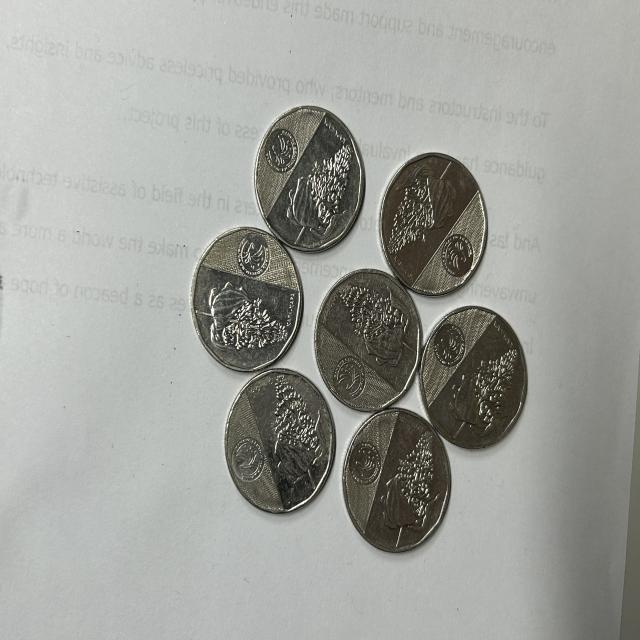10_New_Back: (255, 368, 340, 495), (195, 269, 281, 371), (330, 276, 417, 374), (381, 414, 446, 534), (382, 164, 455, 259), (447, 336, 520, 429), (292, 134, 360, 230)
